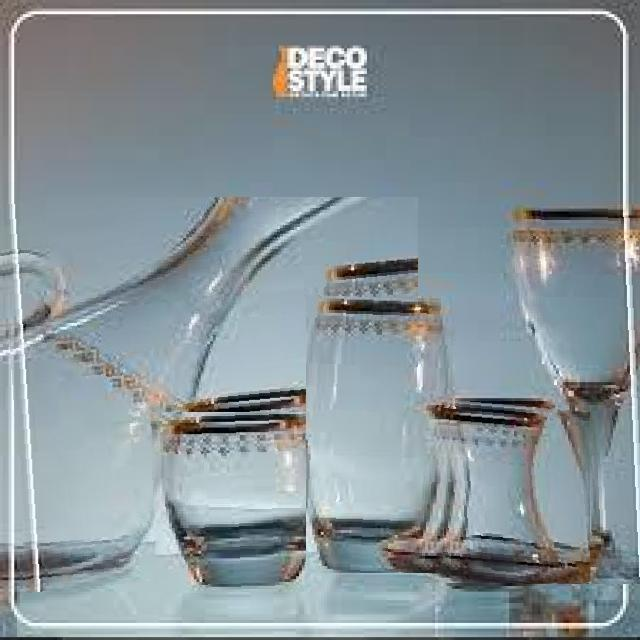Glass: (0, 197, 418, 594), (506, 204, 640, 584), (306, 296, 456, 574), (397, 395, 590, 583), (150, 412, 322, 594)
